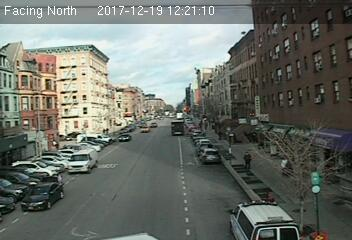car: (18, 178, 62, 211), (200, 148, 221, 162), (116, 133, 132, 142)
pedestrian: (242, 150, 253, 172)
police: (226, 200, 300, 240)
truck: (68, 148, 98, 174)
ups: (171, 120, 185, 136)
